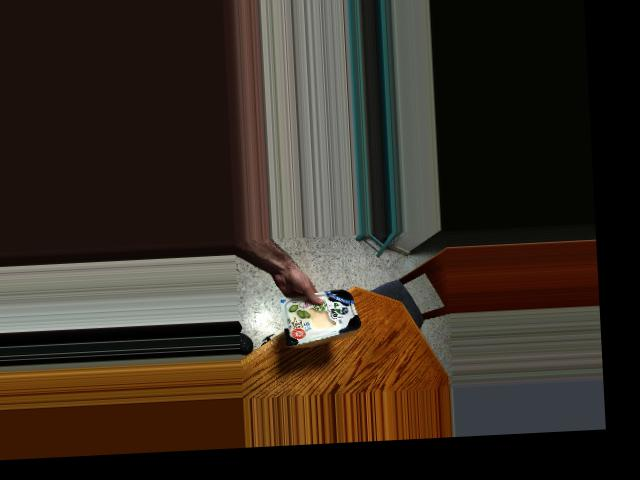cheese: (293, 281, 353, 346)
